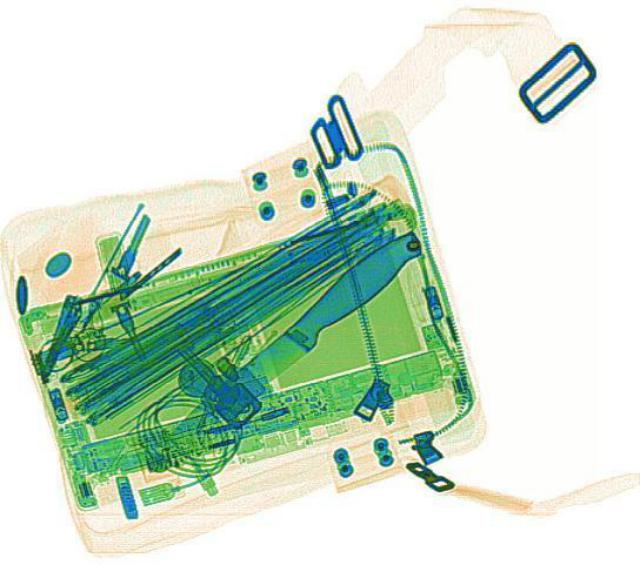Knife: (156, 223, 434, 444)
